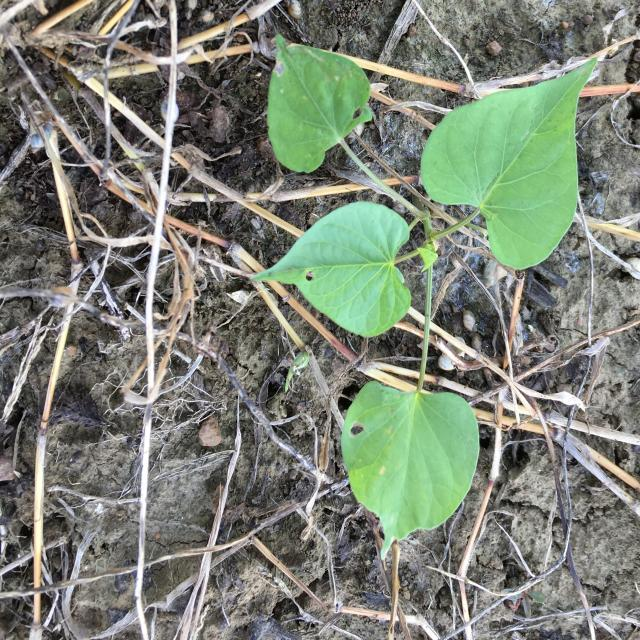MorningGlory: (253, 34, 599, 562)
